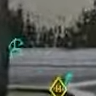hacks_2: (8, 38, 24, 59)
